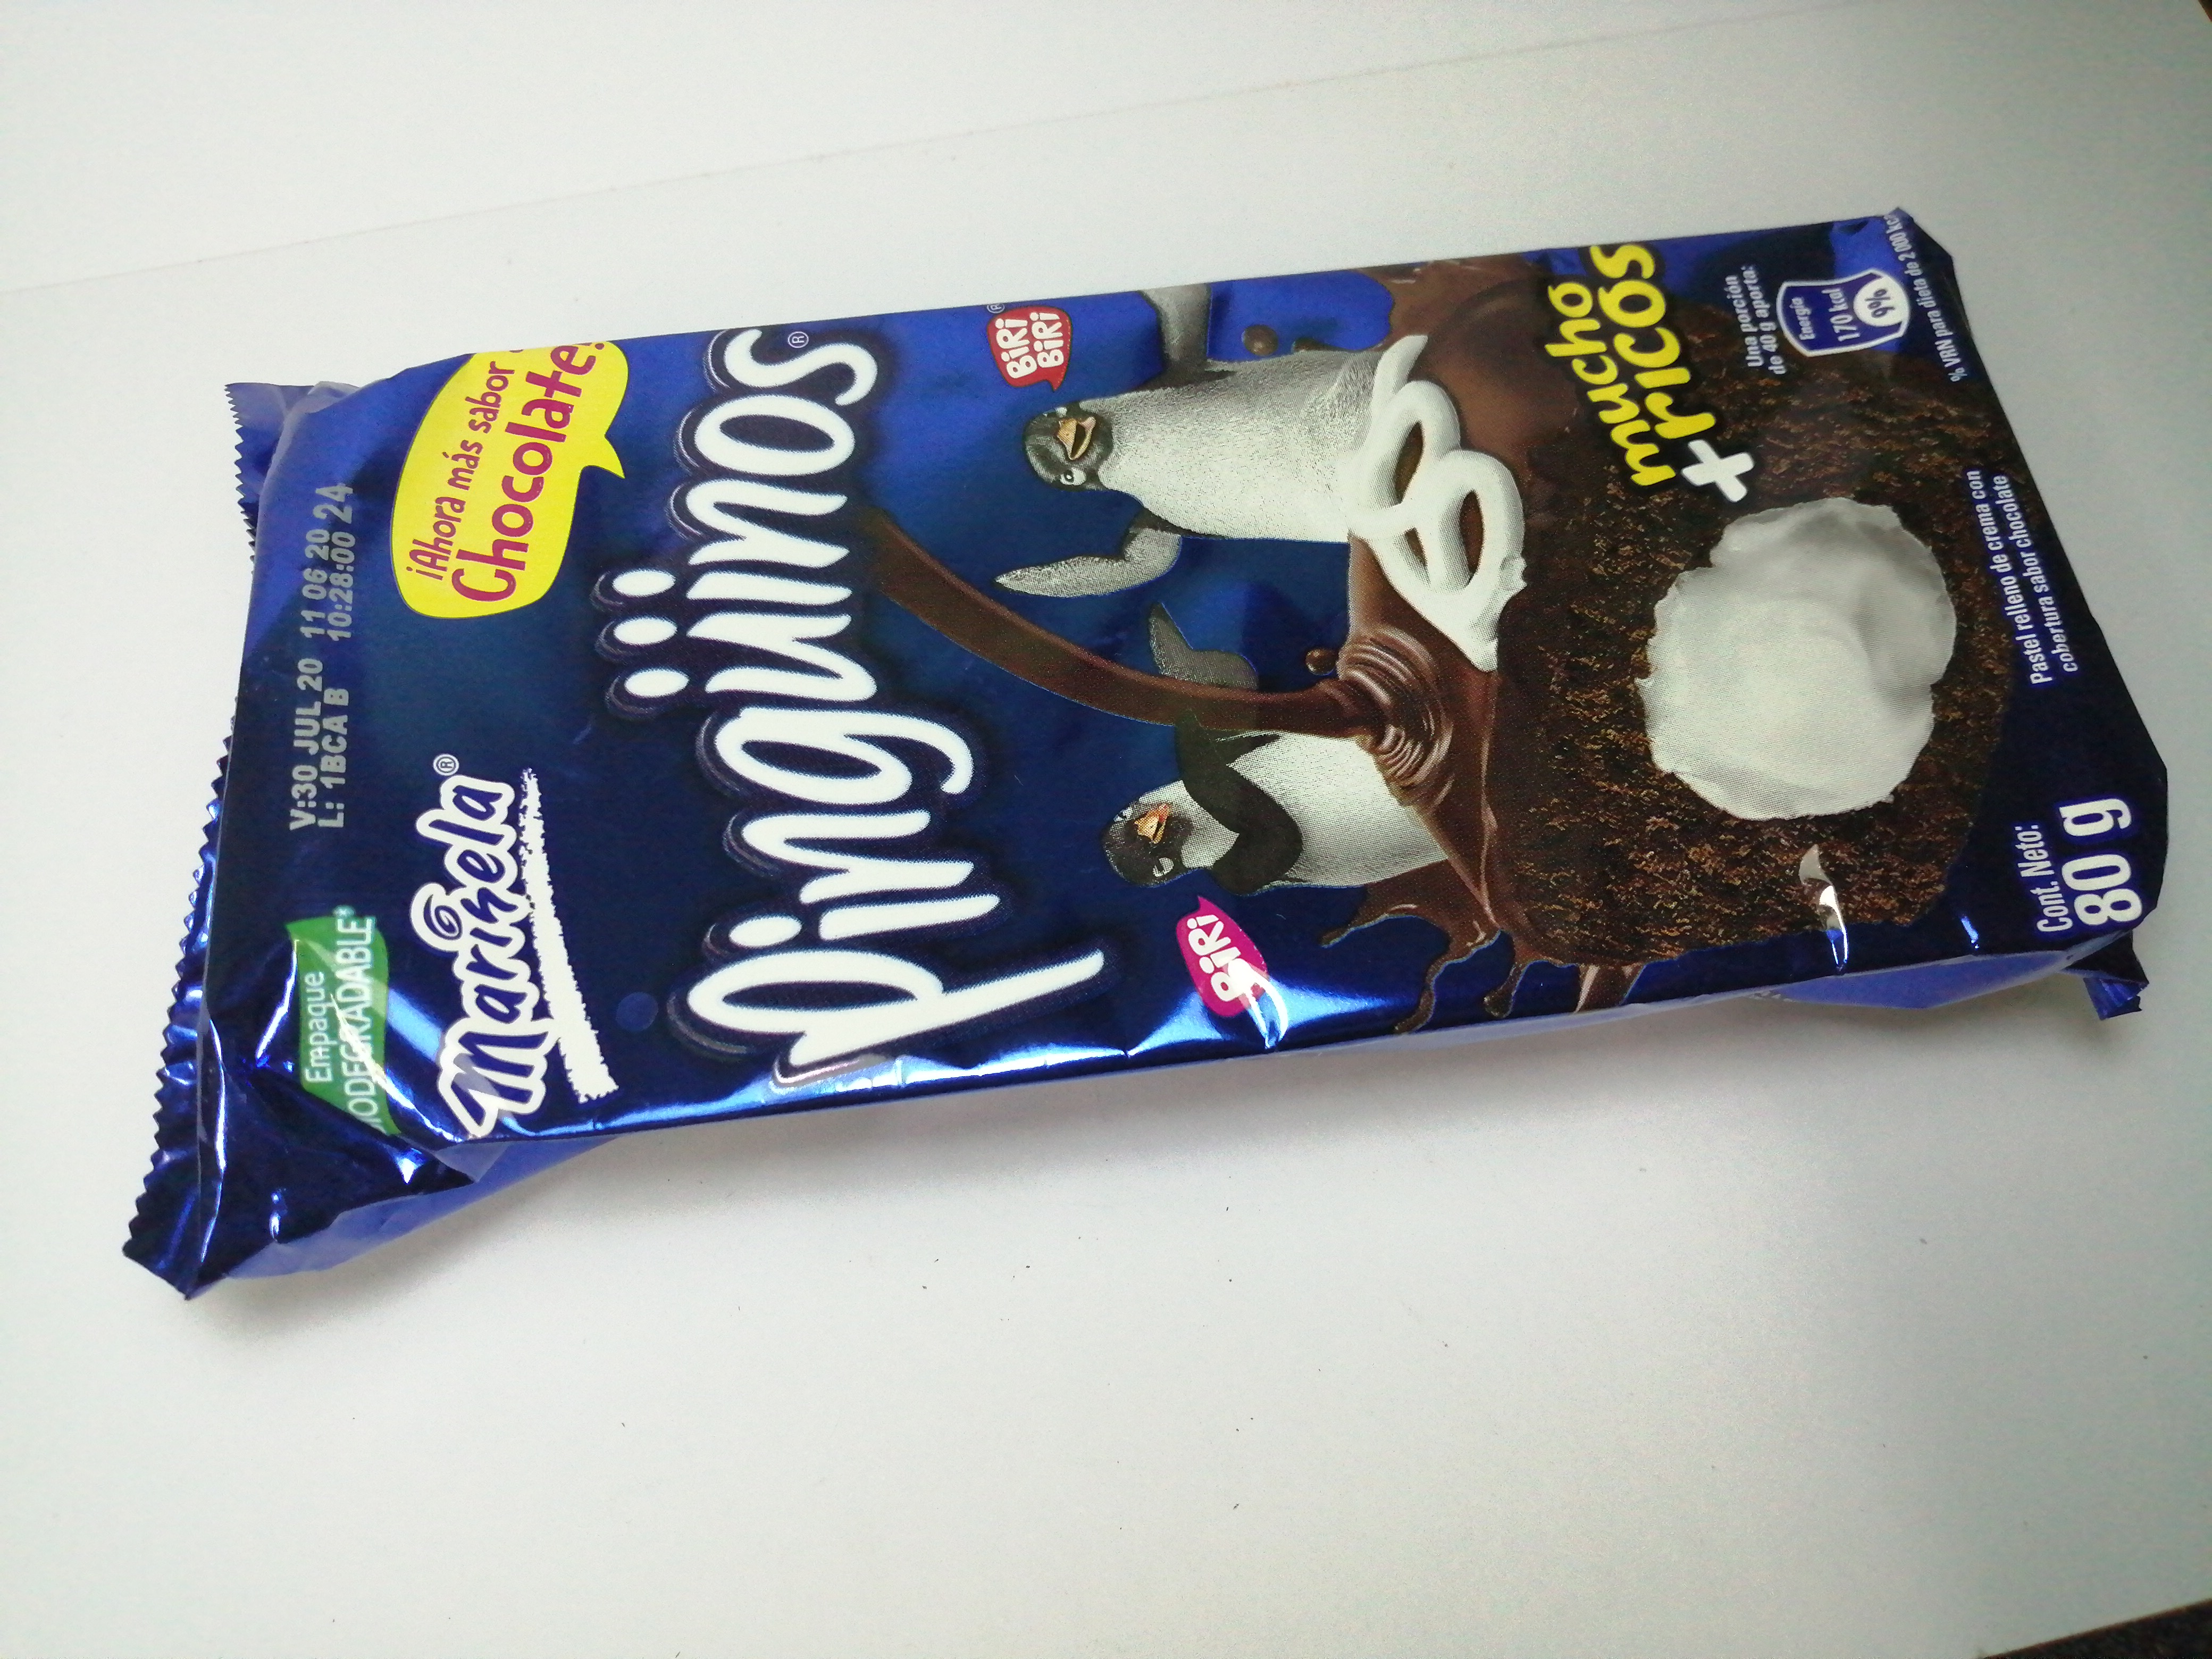pinguino: (122, 193, 2179, 1291)
